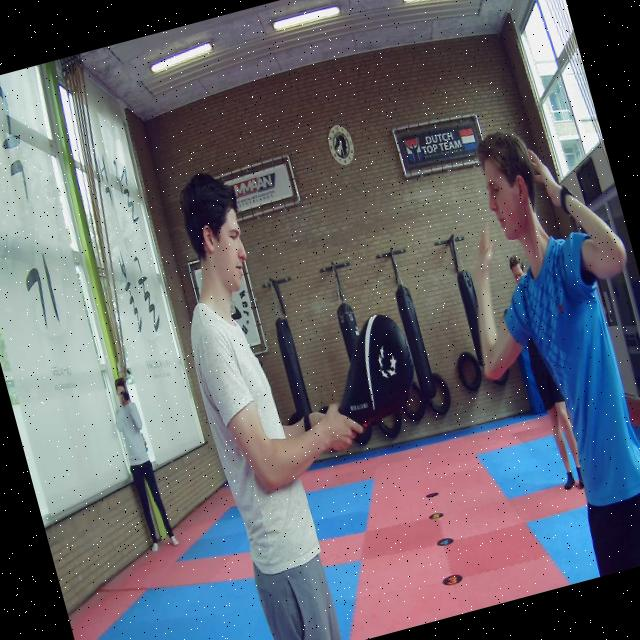paddle: (337, 312, 415, 425)
